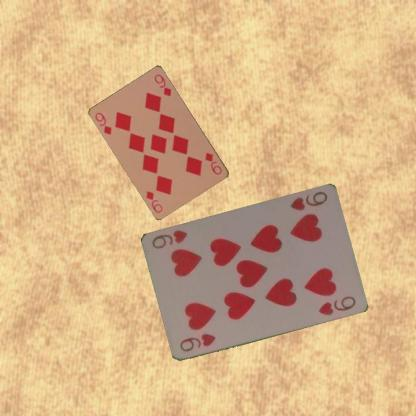9d: (92, 110, 114, 136), (203, 150, 223, 176)
9h: (287, 189, 330, 213), (176, 331, 216, 353)
